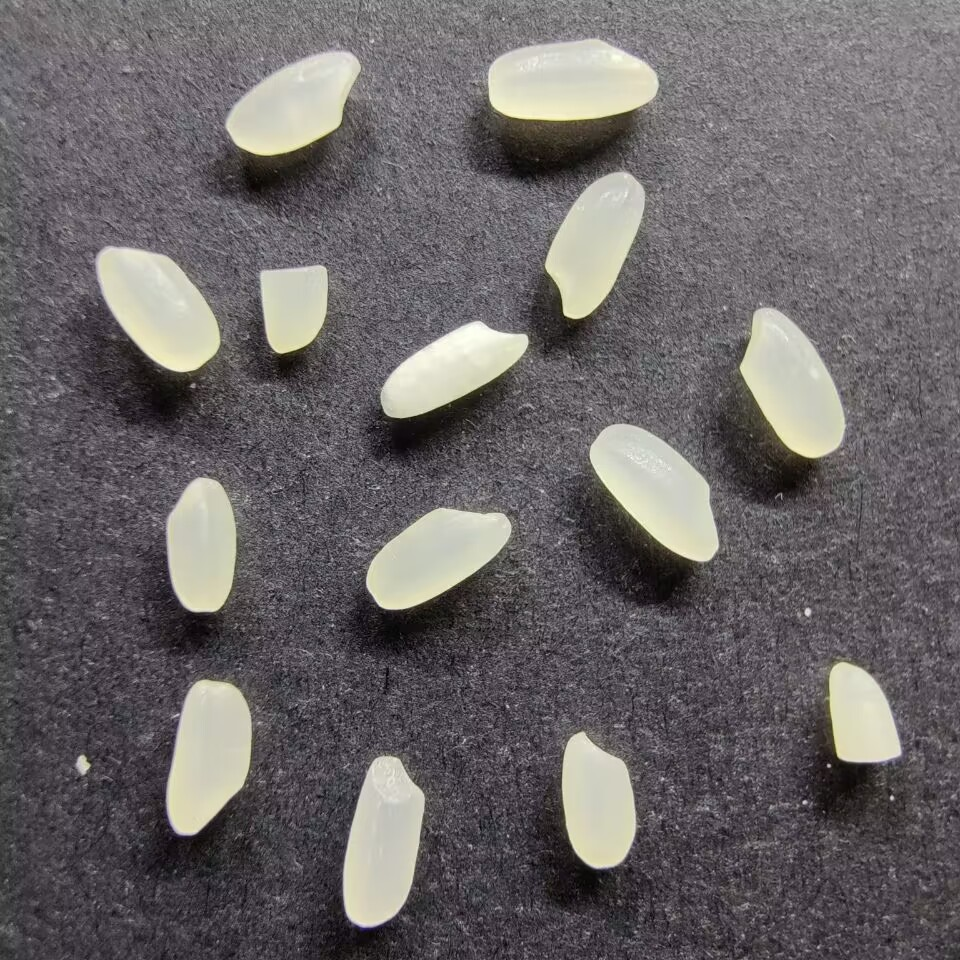broken: (827, 660, 903, 763), (257, 264, 331, 354)
rice: (588, 422, 719, 563), (94, 242, 223, 374), (737, 306, 846, 458), (541, 170, 647, 320), (365, 505, 514, 611), (377, 318, 530, 421), (341, 753, 427, 928), (223, 47, 361, 156), (486, 37, 660, 123), (165, 677, 253, 838), (561, 731, 639, 869), (164, 475, 236, 614)
